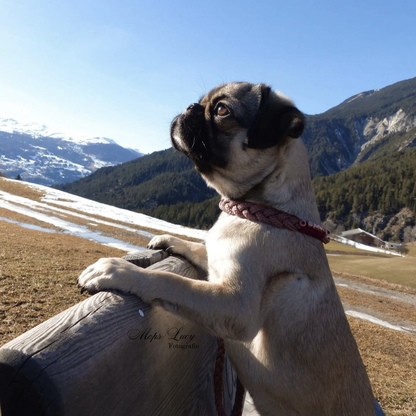Pug: (72, 73, 392, 416)
